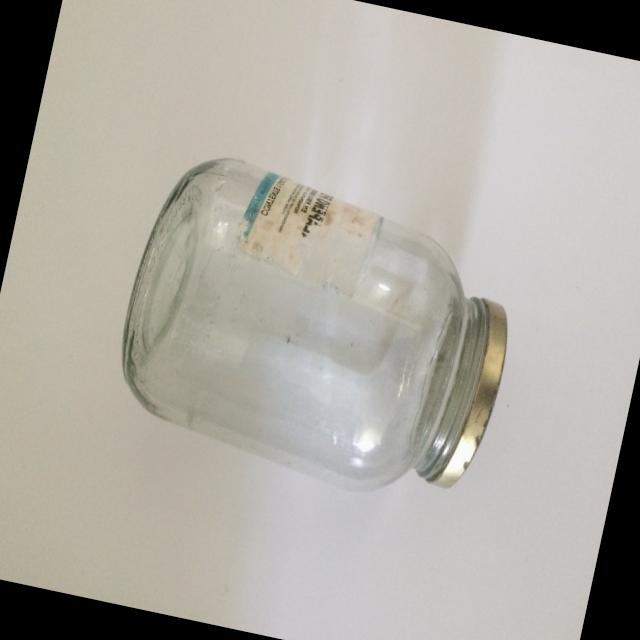Glass: (91, 131, 540, 527)
